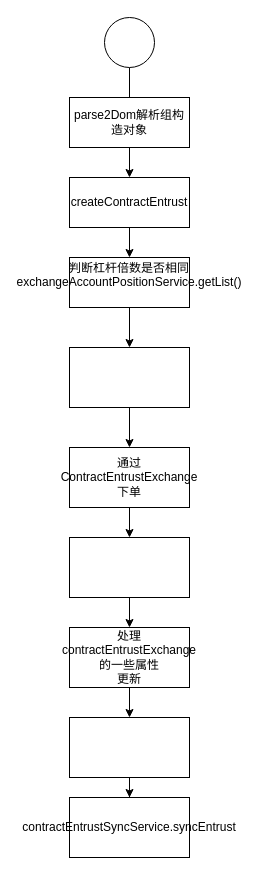
Some shapes in this 259 by 875 pixel diagram are drawn without their labels. Here are the shapes that lost their labels. From the top down, the box of each, then its label:
(68, 346, 190, 408): 保存构造的合约对象
(68, 536, 190, 598): 异步下单orderingAsyncRunnerService.run
(68, 716, 190, 778): 同步合约contractEntrustSyncService.syncEntrust
